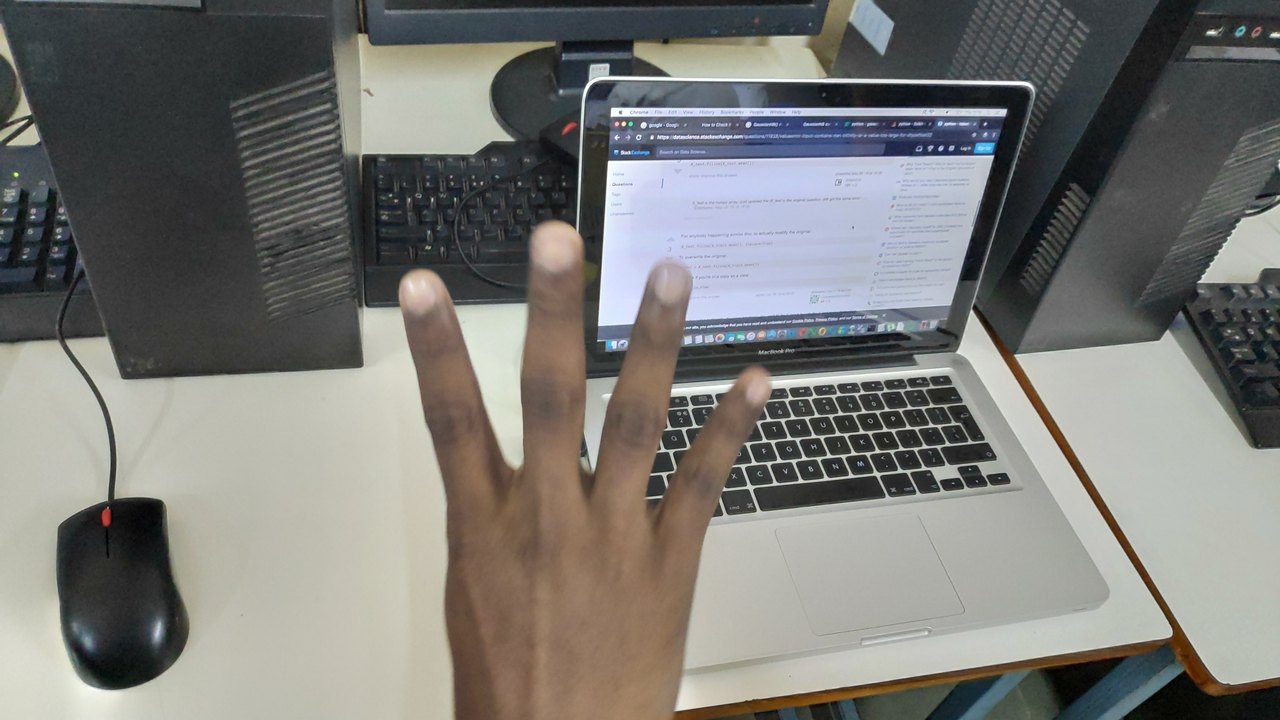fingertip: (520, 212, 588, 286), (392, 266, 454, 328), (638, 252, 700, 310), (726, 356, 782, 408)
